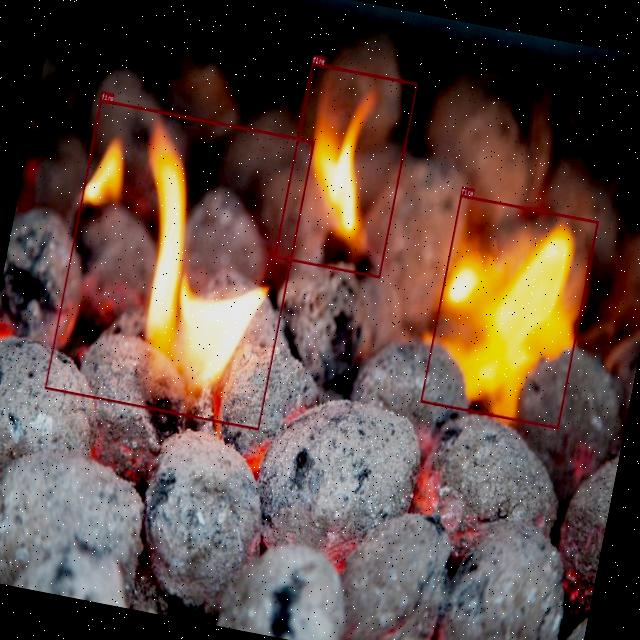fire: (44, 99, 314, 430), (420, 194, 598, 429), (274, 62, 418, 278)
